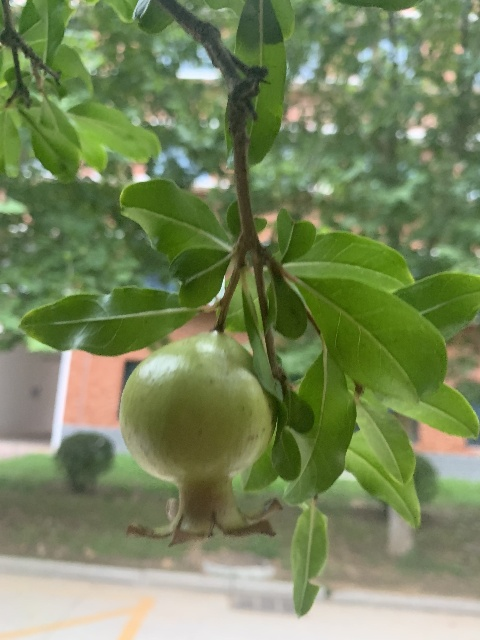early-fruit: (118, 333, 285, 548)
